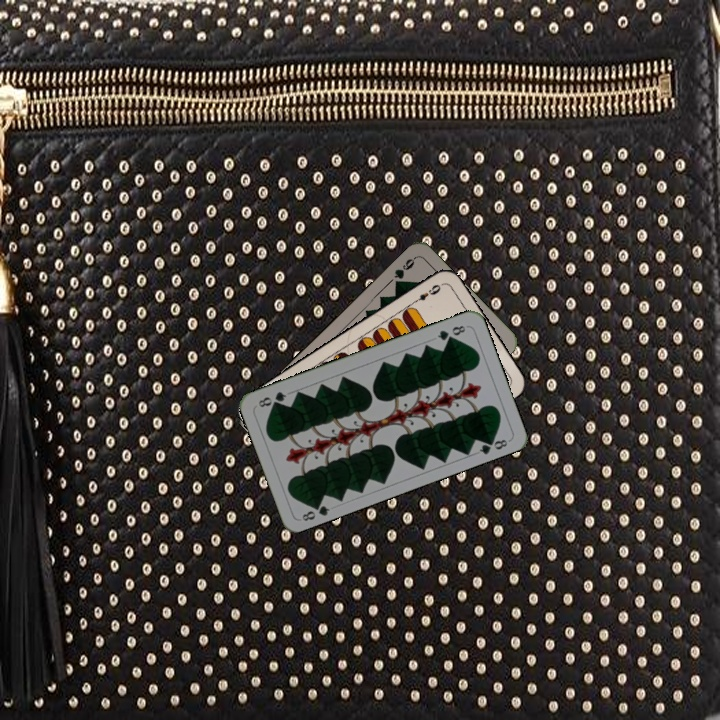E9: (408, 280, 445, 307)
G8: (298, 498, 332, 524), (433, 321, 468, 343)
G9: (390, 253, 418, 290)
